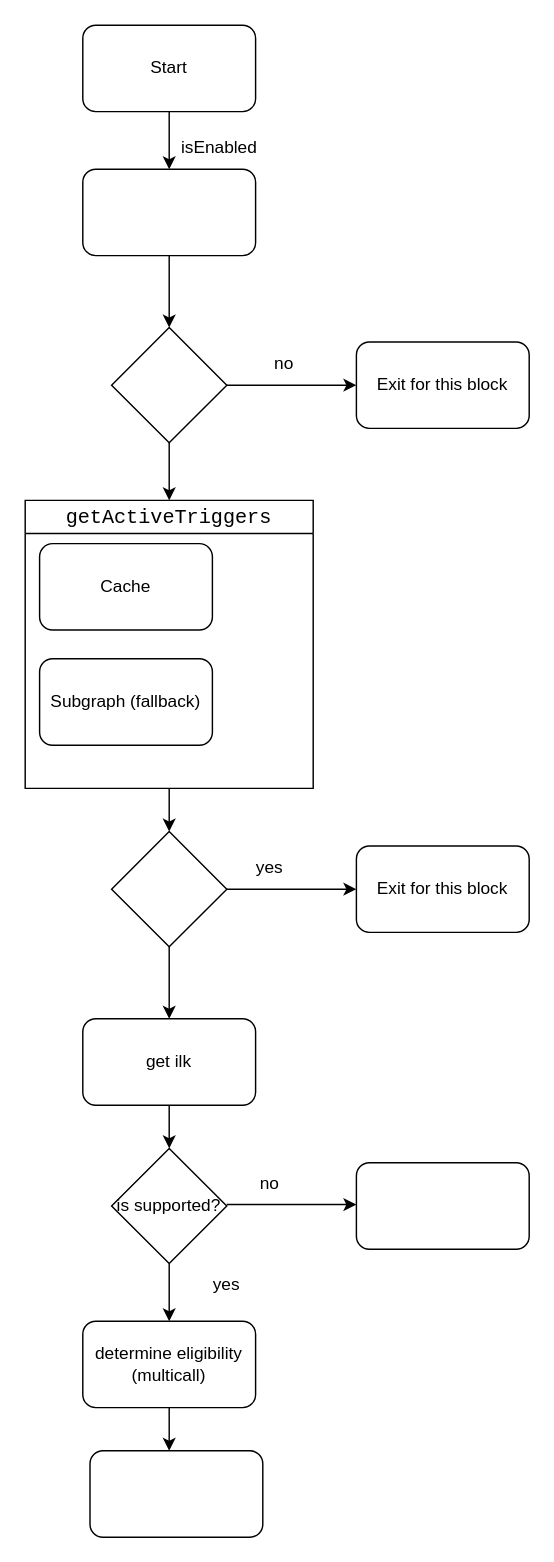
The diagram is 554 pixels wide and 1562 high, and some of its shapes have lost their labels. Here are the shapes that lost their labels. From the top down, the centre of each, then its label:
At [168,212]: "ConfigService".
At [168,384]: "check enabled".
At [168,888]: "list empty?".
At [442,1205]: "filter opportunity out".
At [176,1493]: "update eligibility status".
